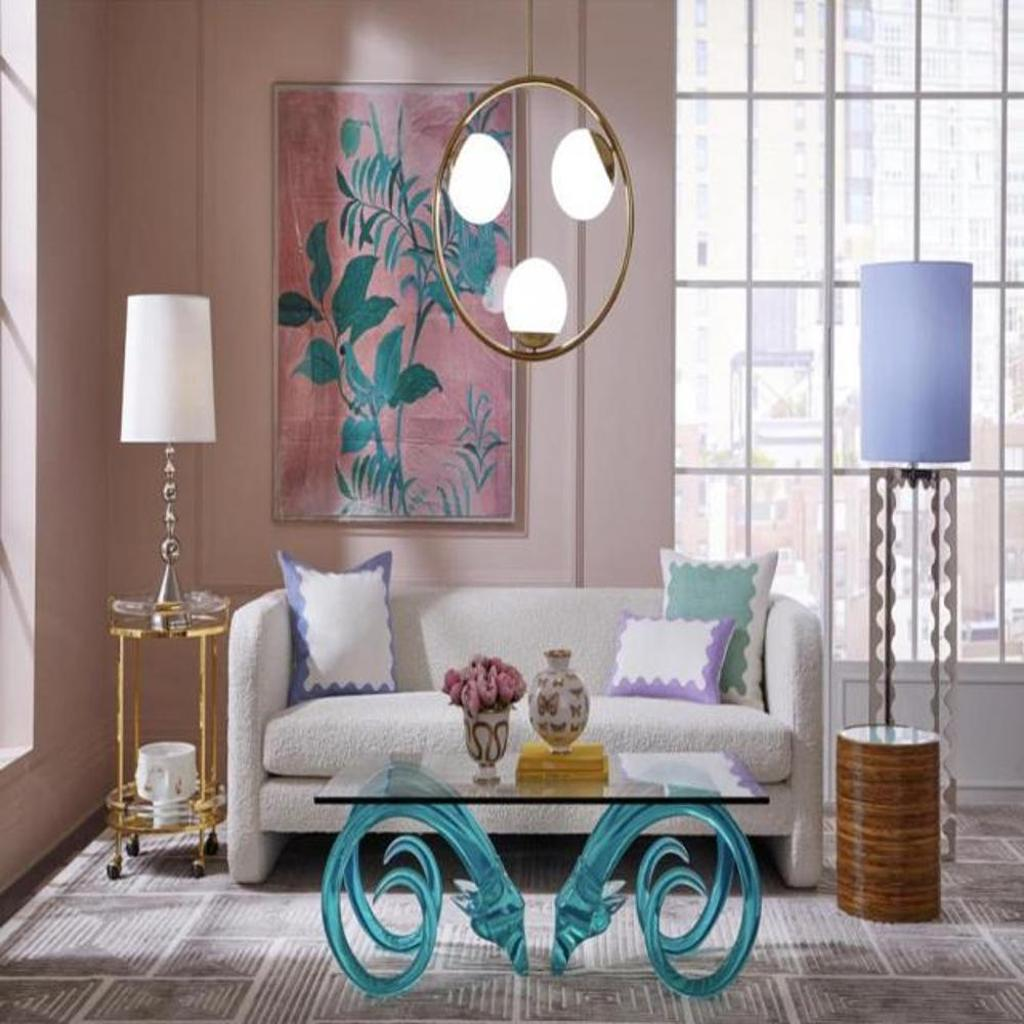shelf: (430, 68, 660, 434), (106, 269, 222, 630)
